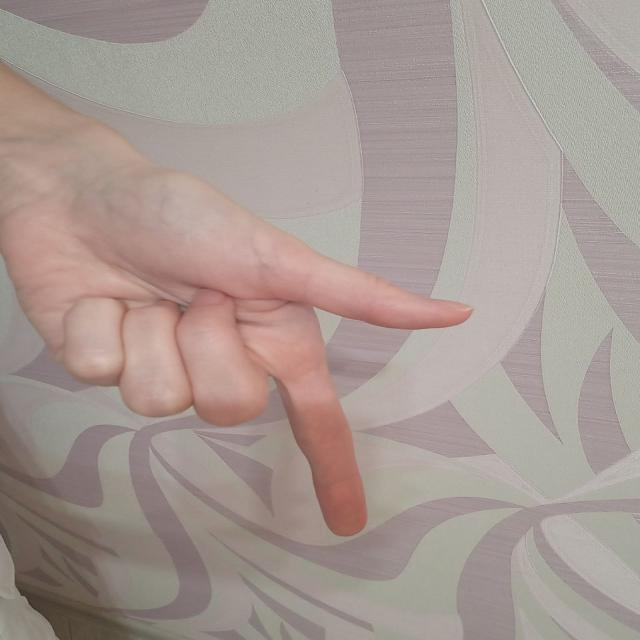g: (24, 163, 473, 540)
